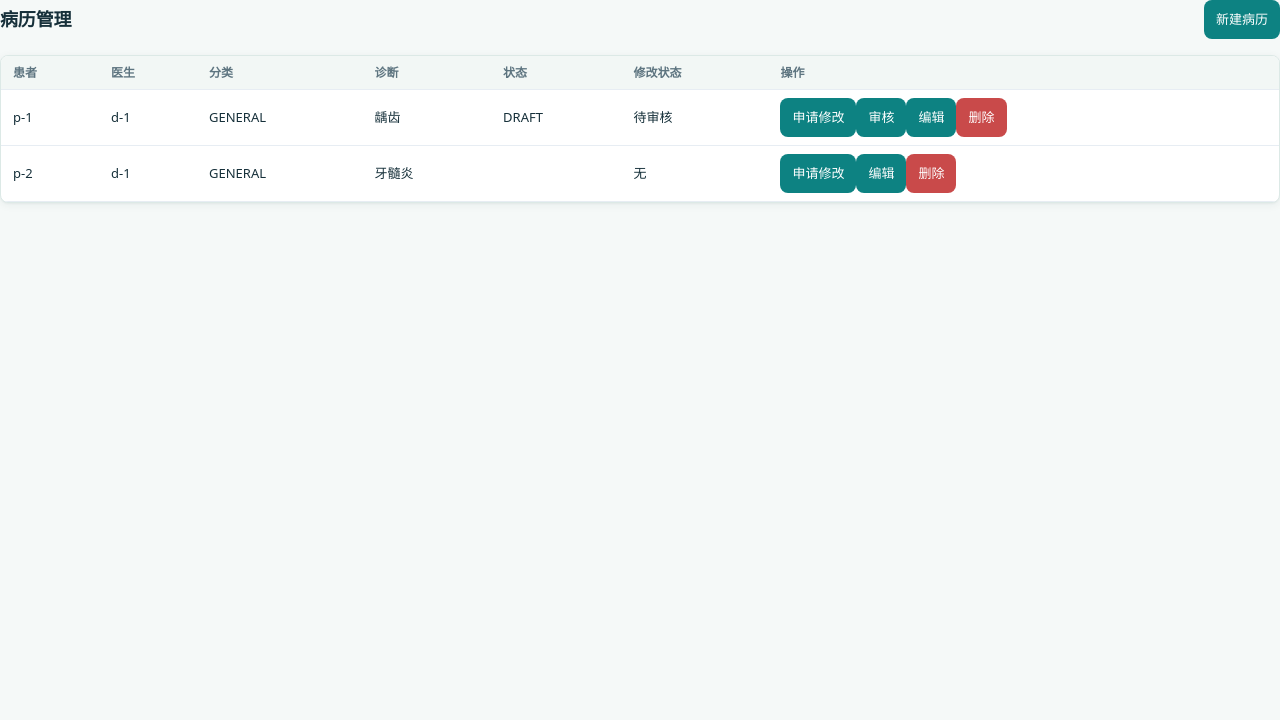
Test case: MedicalRecordsPage › validates required fields
This screenshot has width=1280, height=720.
Expected: the text "龋齿" is shown, left=362, top=90, right=491, bottom=146
Click the button "新建病历" at [1242, 19], box left=1204, top=0, right=1279, bottom=39
(page scrolled)
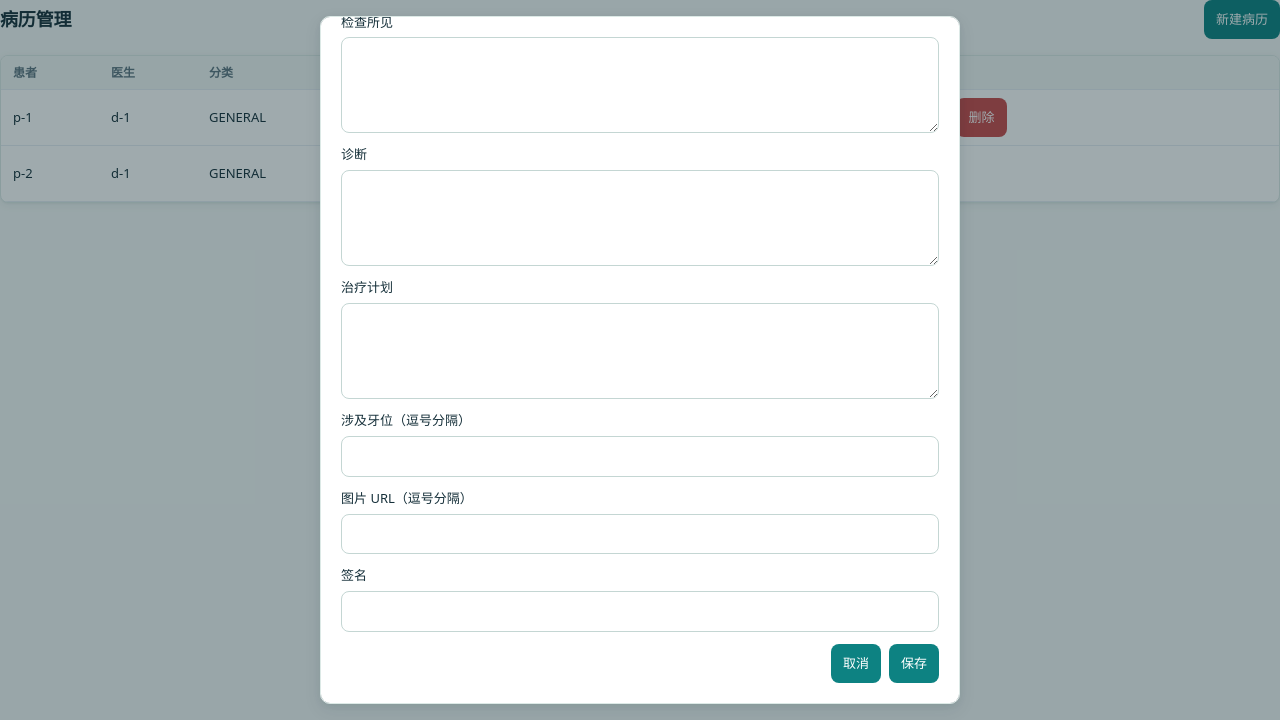
Click the button "保存" at [914, 664], box left=889, top=644, right=939, bottom=683
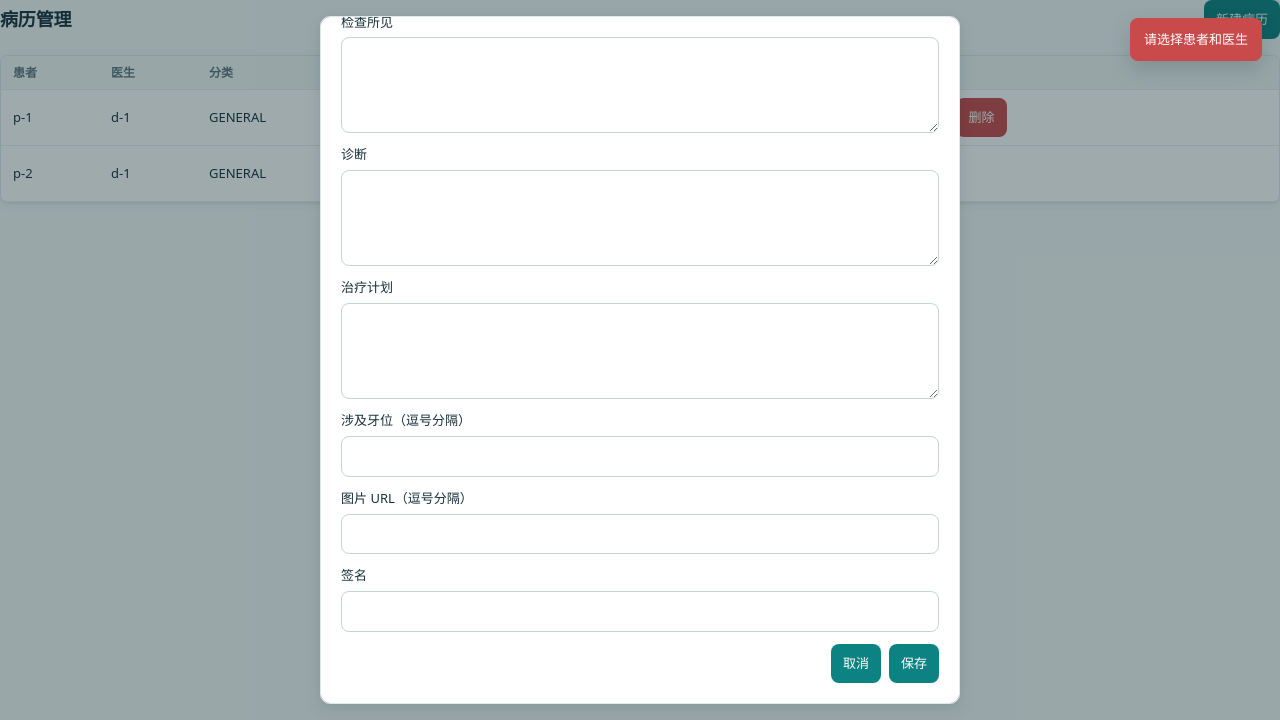
Result: the text "请选择患者和医生" is shown at left=1130, top=18, right=1262, bottom=61
